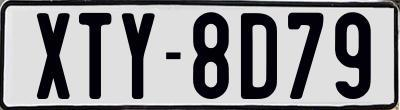7: (287, 10, 327, 101)
8: (193, 10, 231, 98)
9: (334, 12, 374, 101)
D: (240, 12, 278, 99)
T: (77, 13, 111, 105)
X: (37, 10, 75, 98)
Y: (122, 11, 156, 97)
